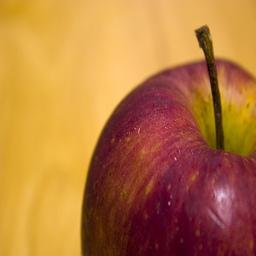apple: (76, 54, 256, 252)
